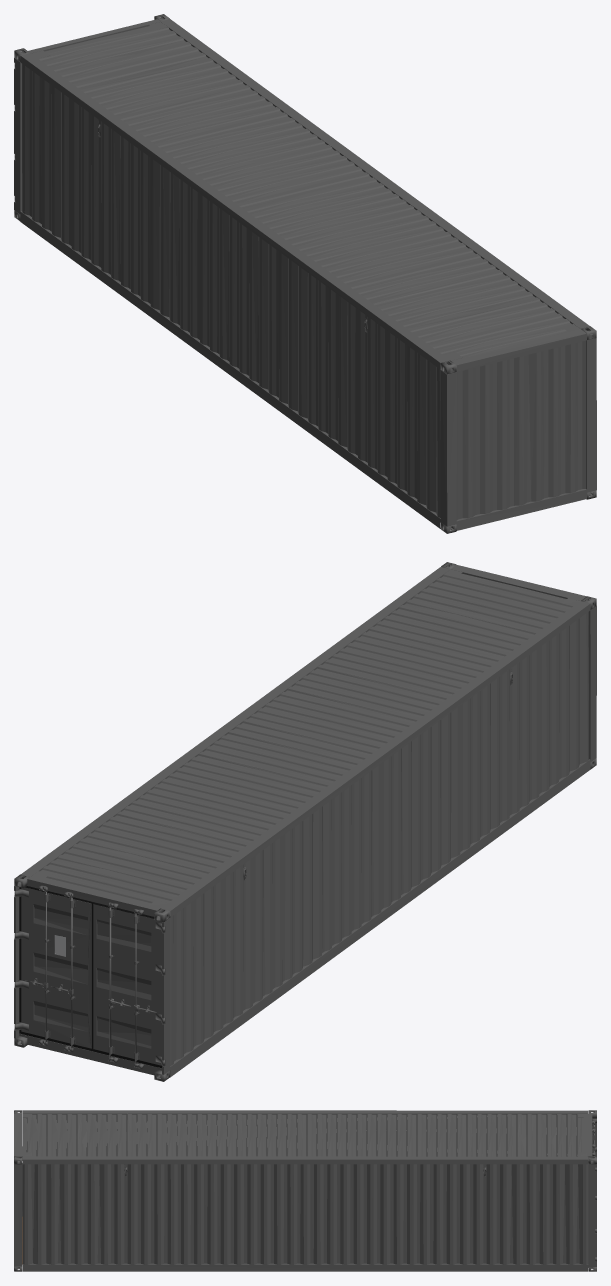
The model's file is Container_40ft_LOD1.fbx.
3 views of the same model, one above another, from view 1: azimuth 30°, elevation 25°; view 2: azimuth 150°, elevation 25°; view 3: azimuth 270°, elevation 25° (orthographic). The views are drawn at different scales.
Parts seen in each view (by area): view 1: Container_40ft_LOD1; view 2: Container_40ft_LOD1; view 3: Container_40ft_LOD1.
Part boxes in pixels (x1,y1,x2,y2): Container_40ft_LOD1: (14,14,596,533); Container_40ft_LOD1: (14,562,596,1081); Container_40ft_LOD1: (14,1110,596,1271).
Size of the model in its own units: 244 by 259 by 1219.
